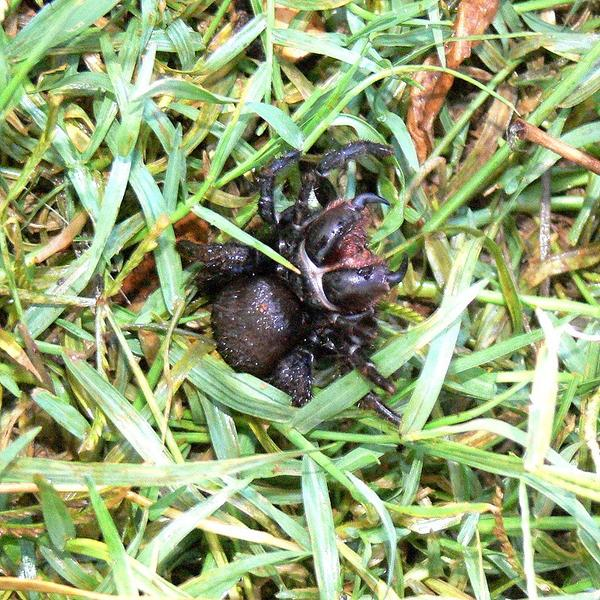Red Headed Mouse Spider: (185, 143, 409, 395)
